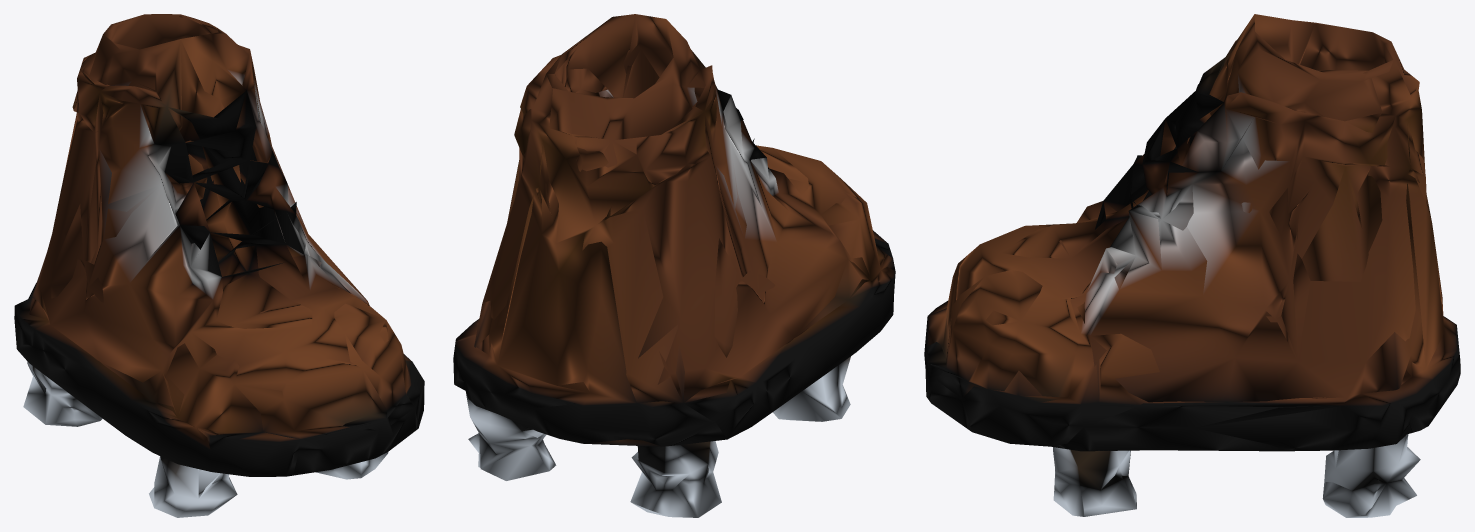
Rendered from gen3d-spring-shoe-lod0.glb.
The picture shows the model from 3 angles, left to right: view 1: azimuth 30°, elevation 25°; view 2: azimuth 150°, elevation 25°; view 3: azimuth 270°, elevation 25°; orthographic projection. The views are drawn at different scales.
Parts seen in each view (by area): view 1: part_0; view 2: part_0; view 3: part_0.
Boxes of the visible parts, left/top/right/bottom form: part_0: left=14, top=14, right=424, bottom=517; part_0: left=453, top=14, right=895, bottom=517; part_0: left=924, top=14, right=1460, bottom=517.
Size of the model in its own units: 0.6878 by 0.9992 by 1.1.
